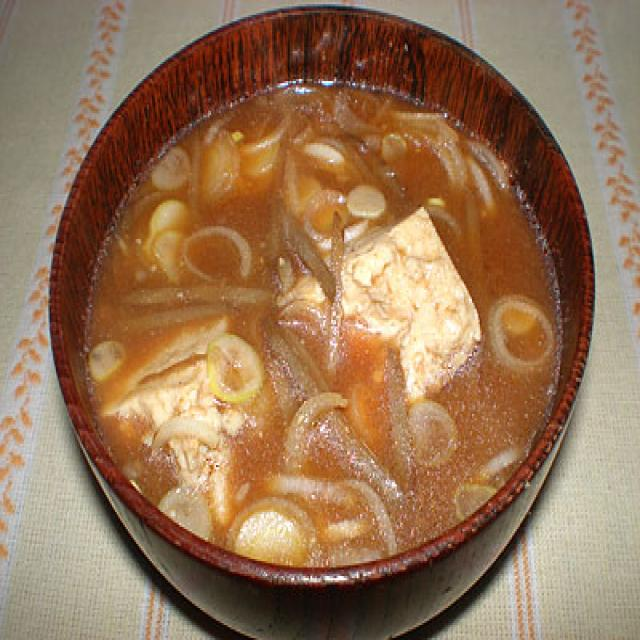蔬菜料理: (42, 19, 622, 621)
